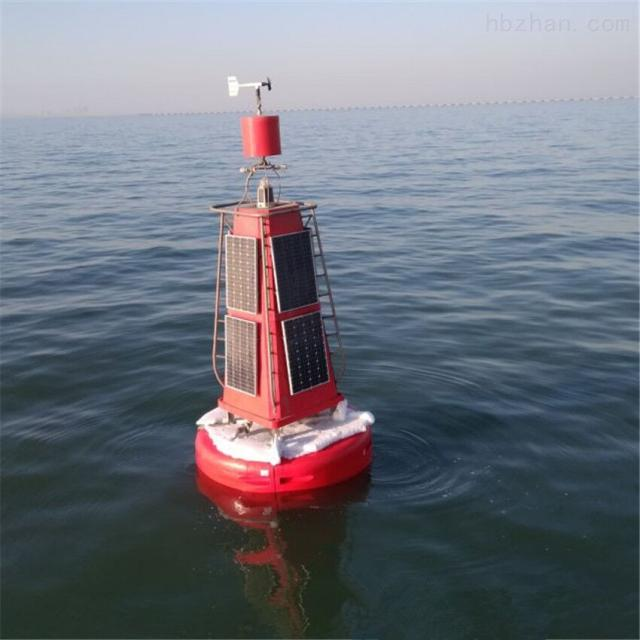buoy: (185, 72, 385, 493)
